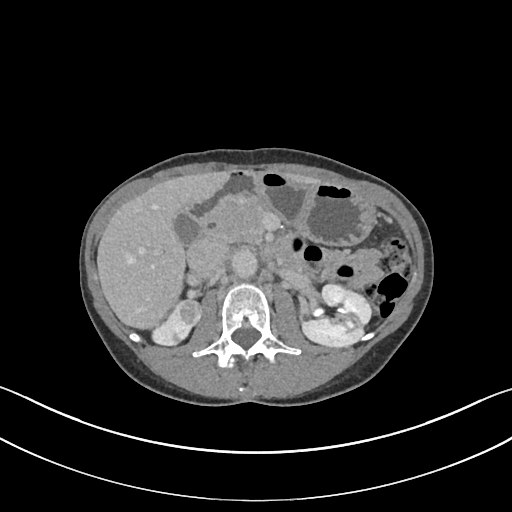Lesion: (176, 300, 203, 325)
